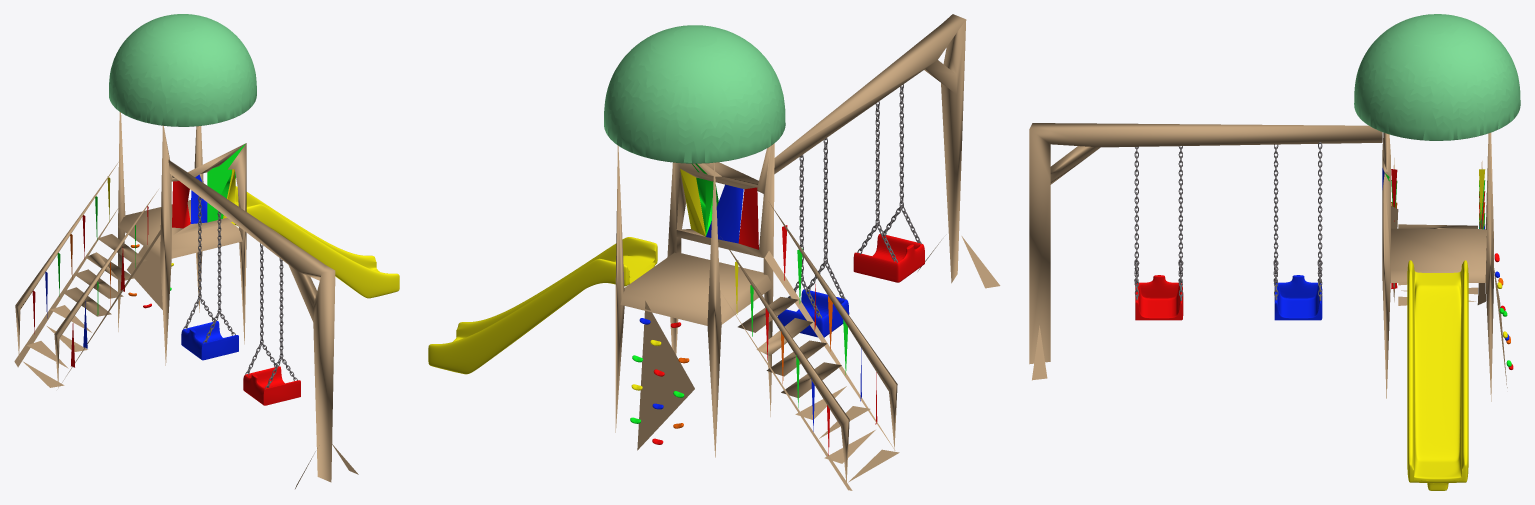
The model's file is playset.glb.
3 renders of one model, left to right at view 1: azimuth 30°, elevation 25°; view 2: azimuth 150°, elevation 25°; view 3: azimuth 270°, elevation 25°, orthographic. The views are drawn at different scales.
Visible parts, largest first — view 1: ceiling; view 2: ceiling; view 3: ceiling.
Part boxes in pixels (x1=…): ceiling: x1=14, y1=14, x2=399, y2=488; ceiling: x1=428, y1=14, x2=1000, y2=490; ceiling: x1=1029, y1=14, x2=1520, y2=490.
Size of the model in its own units: 5.37 by 4.67 by 5.73.
Materials: 1 (1 with a texture image).
